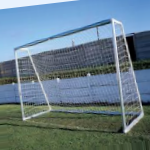goals: (12, 18, 144, 135)
